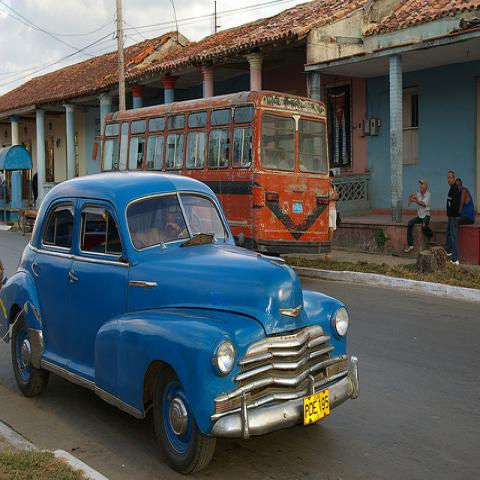bus: (92, 92, 331, 255)
car: (1, 170, 361, 468)
